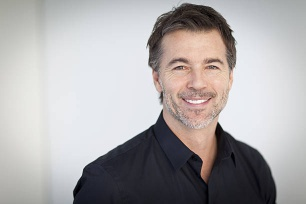male: (155, 25, 232, 129)
